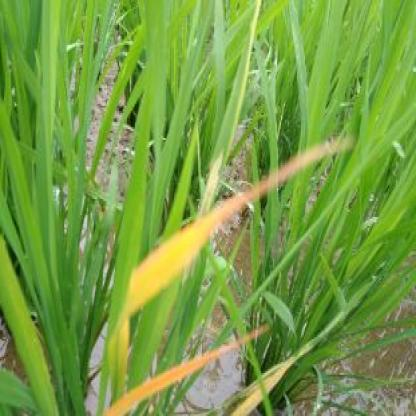Tungro: (127, 148, 339, 305)
